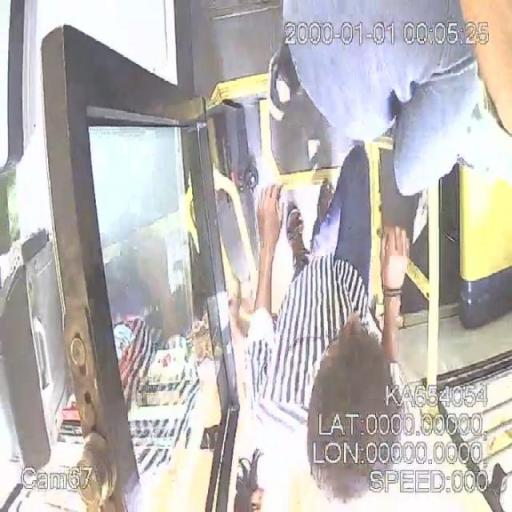persona: (247, 148, 414, 512)
